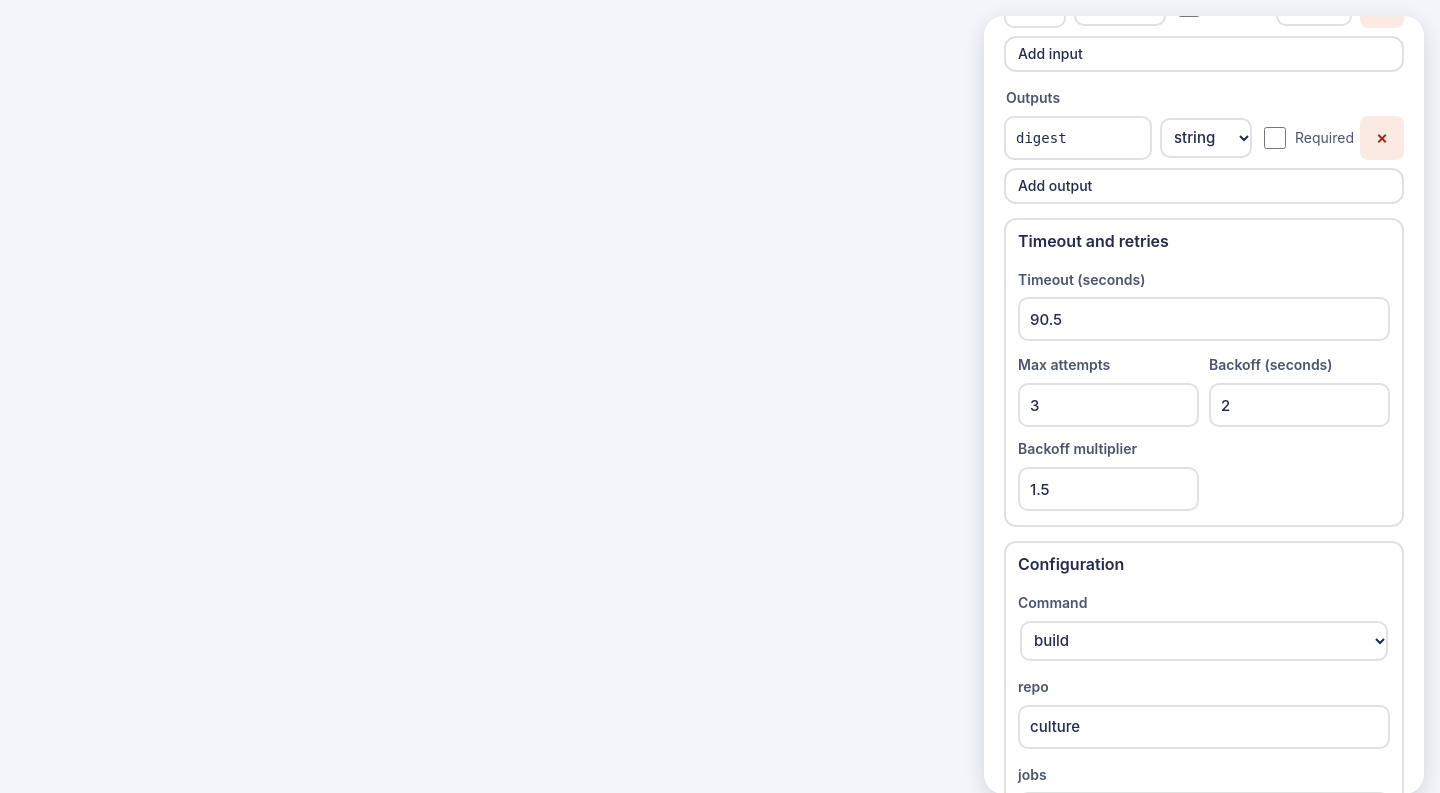
Scenario: StepEditor: guided validation › rejects Max attempts = 0
(page scrolled)
Replace the text in the field labelled "Max attempts" with "0": (1108, 405) [1018,383,1199,427]
(page scrolled)
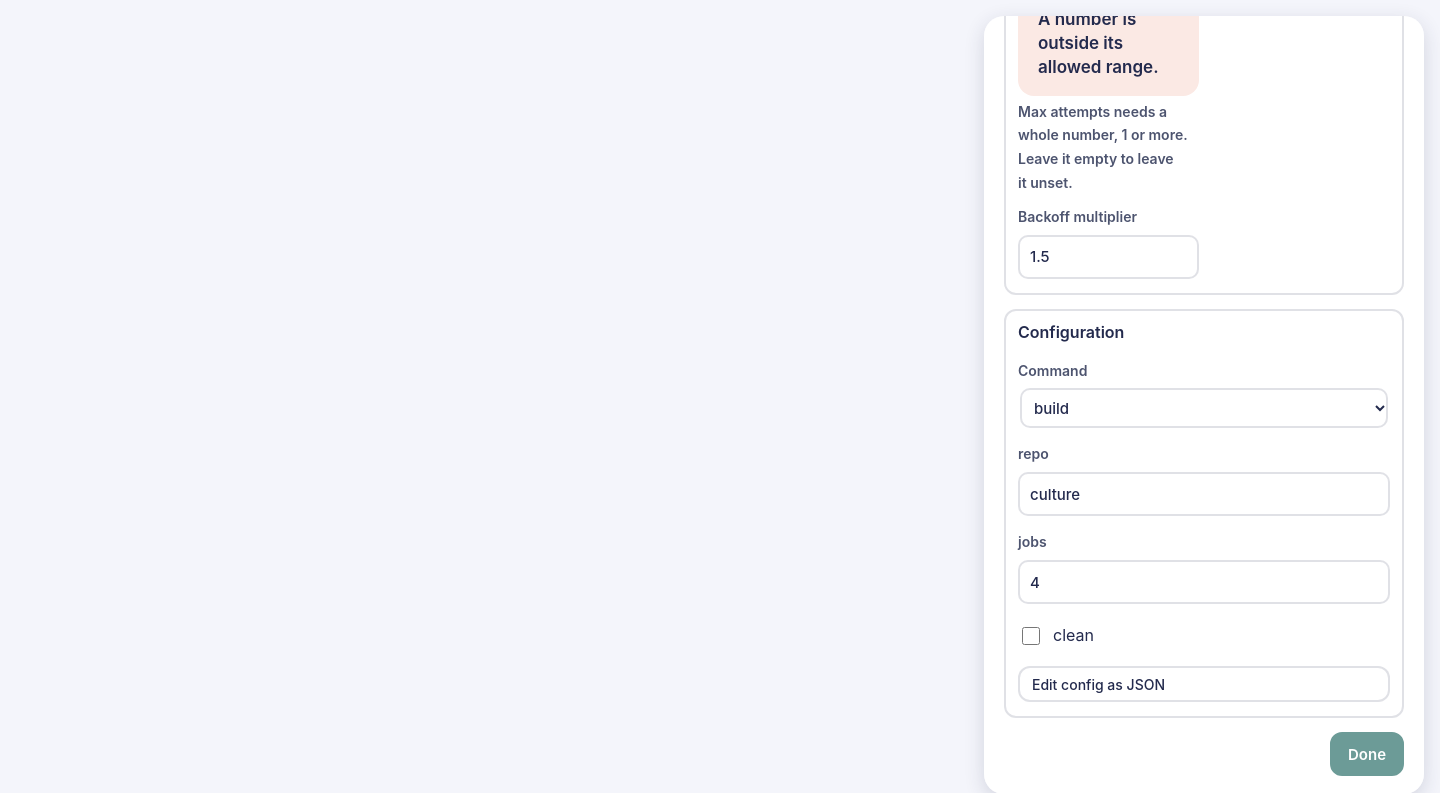
Now the message "A number is outside its allowed range." is shown, box [1018,16,1199,96]
Now the button "Done" is disabled, box [1330,732,1404,776]
